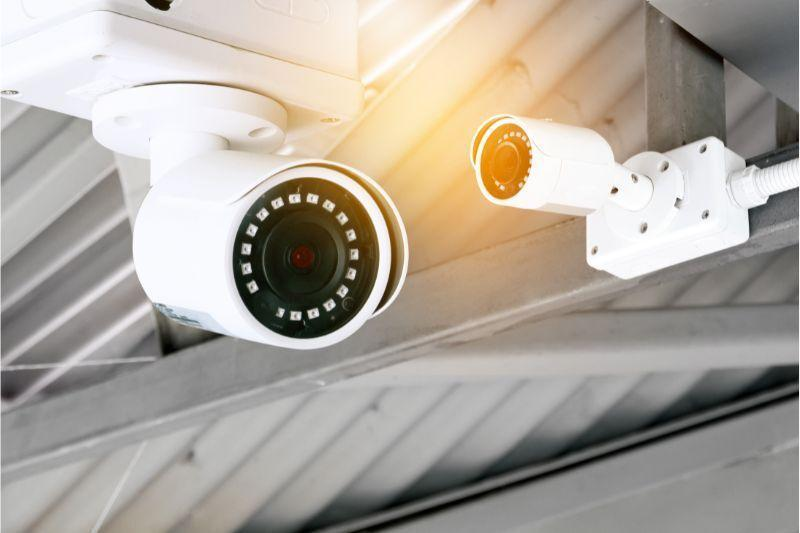bullet: (122, 154, 415, 352), (462, 109, 625, 224)
